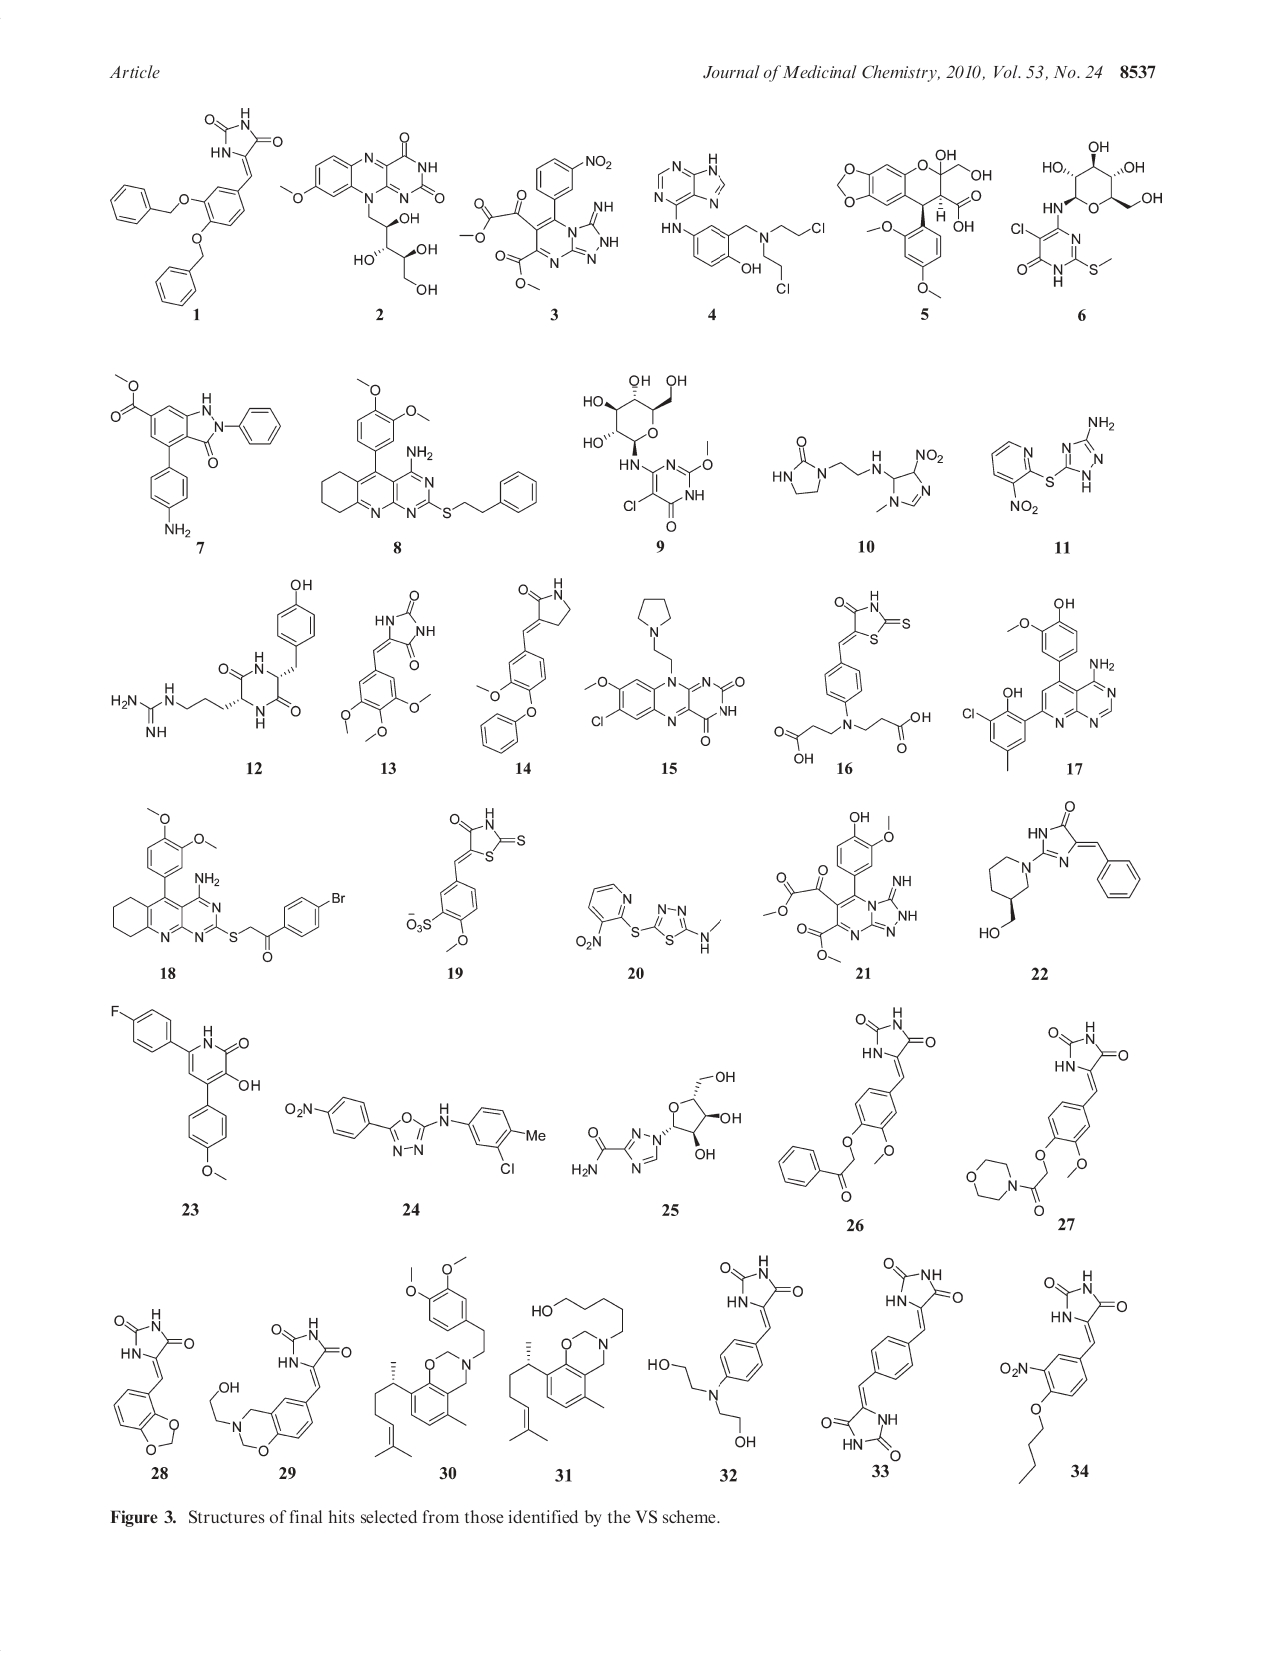exist_molecular: (110, 806, 348, 965), (106, 106, 285, 307), (109, 576, 316, 739), (965, 1017, 1129, 1217), (320, 376, 539, 523), (778, 1005, 938, 1204), (646, 1254, 805, 1450), (821, 1255, 965, 1463), (108, 368, 281, 539), (773, 586, 934, 765), (999, 1266, 1128, 1487), (108, 1001, 262, 1184), (279, 128, 445, 294), (961, 596, 1117, 773), (652, 150, 824, 295), (585, 596, 747, 747), (763, 809, 919, 964), (836, 148, 993, 301), (975, 798, 1144, 939), (372, 1254, 487, 1460), (1011, 140, 1164, 289), (457, 153, 621, 291), (282, 1094, 547, 1176), (582, 372, 713, 535), (207, 1314, 352, 1458), (570, 1071, 743, 1180), (404, 805, 527, 954), (473, 573, 573, 755), (507, 1297, 625, 1443), (342, 586, 438, 743), (771, 434, 946, 513), (988, 414, 1116, 515), (110, 1307, 195, 1456), (574, 882, 723, 956)
